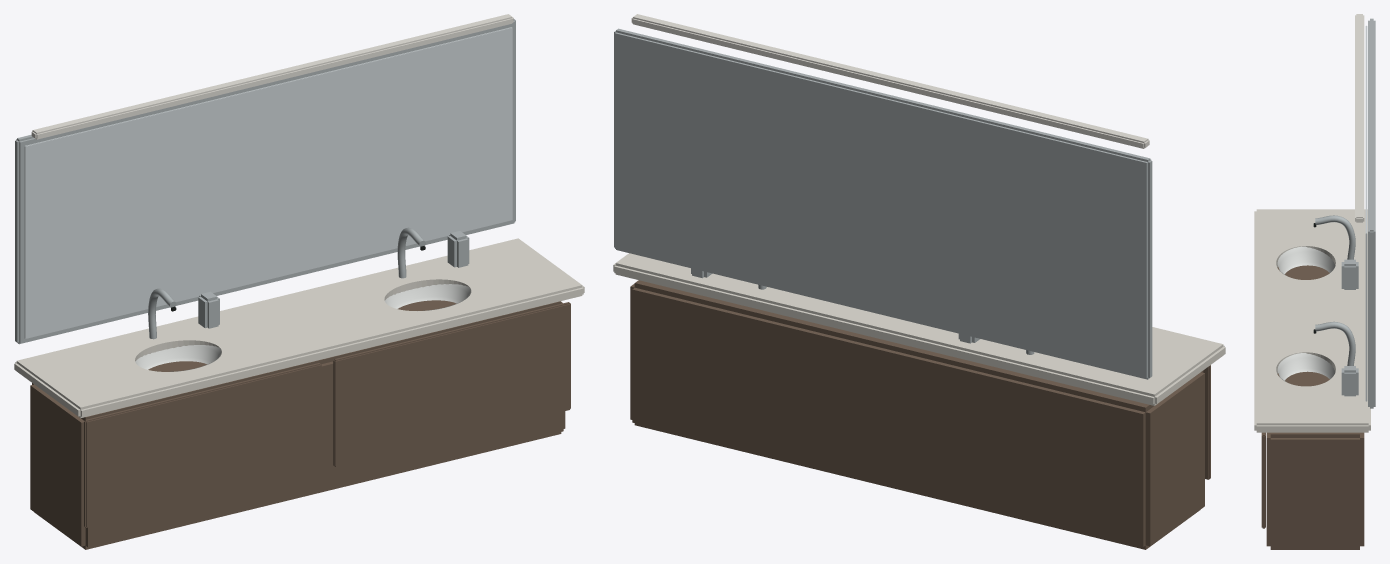
File: double_vanity.glb
3 renders of one model, left to right at view 1: azimuth 30°, elevation 25°; view 2: azimuth 150°, elevation 25°; view 3: azimuth 270°, elevation 25°, orthographic. The views are drawn at different scales.
Visible parts, largest first — view 1: double_vanity_Mirror_polished, double_vanity_Toilet_walnut_laminate, double_vanity_Honed_solid_surface, double_vanity_Brushed_stainless.001, double_vanity_Warm_white_coating, double_vanity_Glazed_sanitary_porcelain; view 2: double_vanity_Brushed_stainless.001, double_vanity_Toilet_walnut_laminate, double_vanity_Honed_solid_surface, double_vanity_Warm_white_coating; view 3: double_vanity_Honed_solid_surface, double_vanity_Toilet_walnut_laminate, double_vanity_Brushed_stainless.001, double_vanity_Warm_white_coating, double_vanity_Glazed_sanitary_porcelain, double_vanity_Mirror_polished.
Boxes of the visible parts, left/top/right/bottom form: double_vanity_Mirror_polished: left=24, top=27, right=512, bottom=338; double_vanity_Toilet_walnut_laminate: left=30, top=300, right=570, bottom=549; double_vanity_Honed_solid_surface: left=14, top=238, right=584, bottom=418; double_vanity_Brushed_stainless.001: left=15, top=19, right=515, bottom=344; double_vanity_Warm_white_coating: left=31, top=14, right=513, bottom=139; double_vanity_Glazed_sanitary_porcelain: left=135, top=284, right=470, bottom=371; double_vanity_Brushed_stainless.001: left=614, top=28, right=1152, bottom=379; double_vanity_Toilet_walnut_laminate: left=630, top=280, right=1210, bottom=549; double_vanity_Honed_solid_surface: left=613, top=253, right=1225, bottom=405; double_vanity_Warm_white_coating: left=631, top=14, right=1149, bottom=148; double_vanity_Honed_solid_surface: left=1254, top=209, right=1370, bottom=432; double_vanity_Toilet_walnut_laminate: left=1261, top=265, right=1364, bottom=549; double_vanity_Brushed_stainless.001: left=1315, top=18, right=1375, bottom=408; double_vanity_Warm_white_coating: left=1355, top=14, right=1364, bottom=222; double_vanity_Glazed_sanitary_porcelain: left=1277, top=246, right=1335, bottom=382; double_vanity_Mirror_polished: left=1365, top=25, right=1367, bottom=401.
Size of the model in its own units: 2.72 by 1.96 by 0.645.
